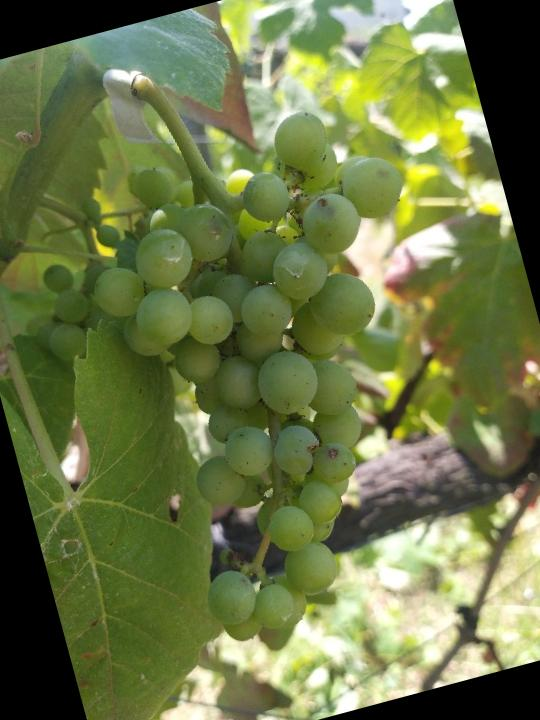grape: (57, 85, 515, 662)
